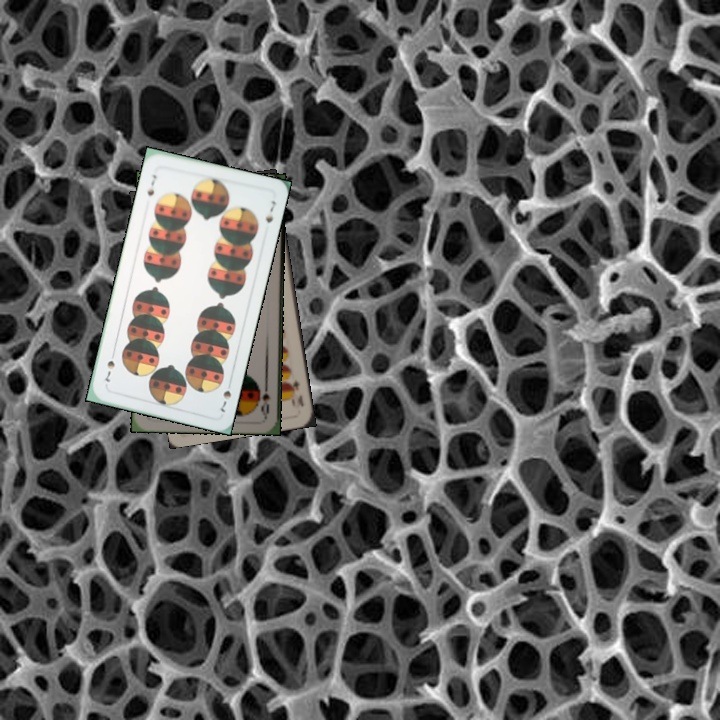E10: (285, 375, 306, 410)
S7: (216, 386, 234, 415), (143, 170, 159, 198)
SO: (257, 377, 273, 418)
